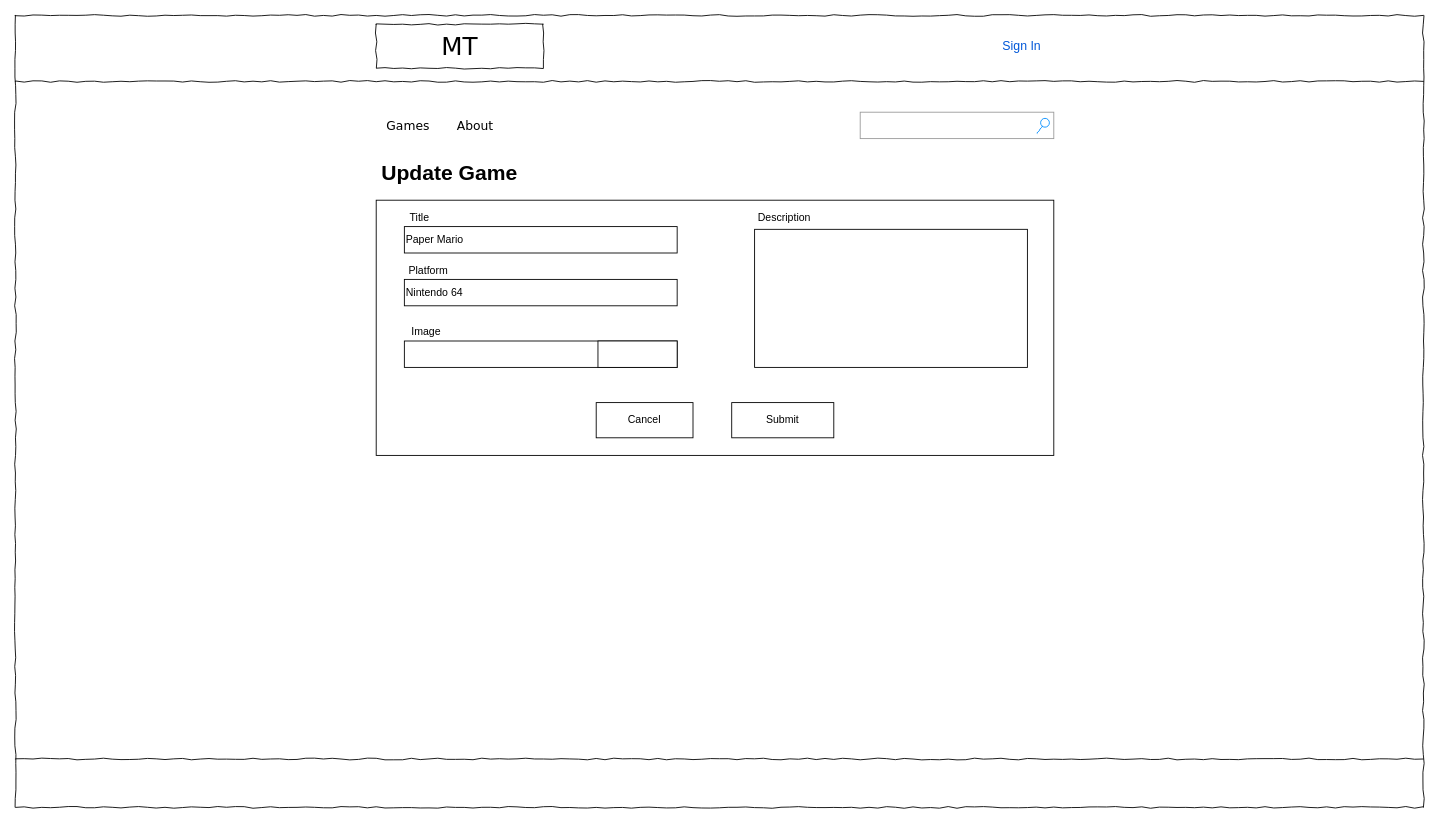
The diagram is 1439 pixels wide and 823 high, and some of its shapes have lost their labels. Here are the shapes that lost their labels. From the top down, the centre of each, then its label:
the point at 956,125: Search
the point at 637,353: Browse...
